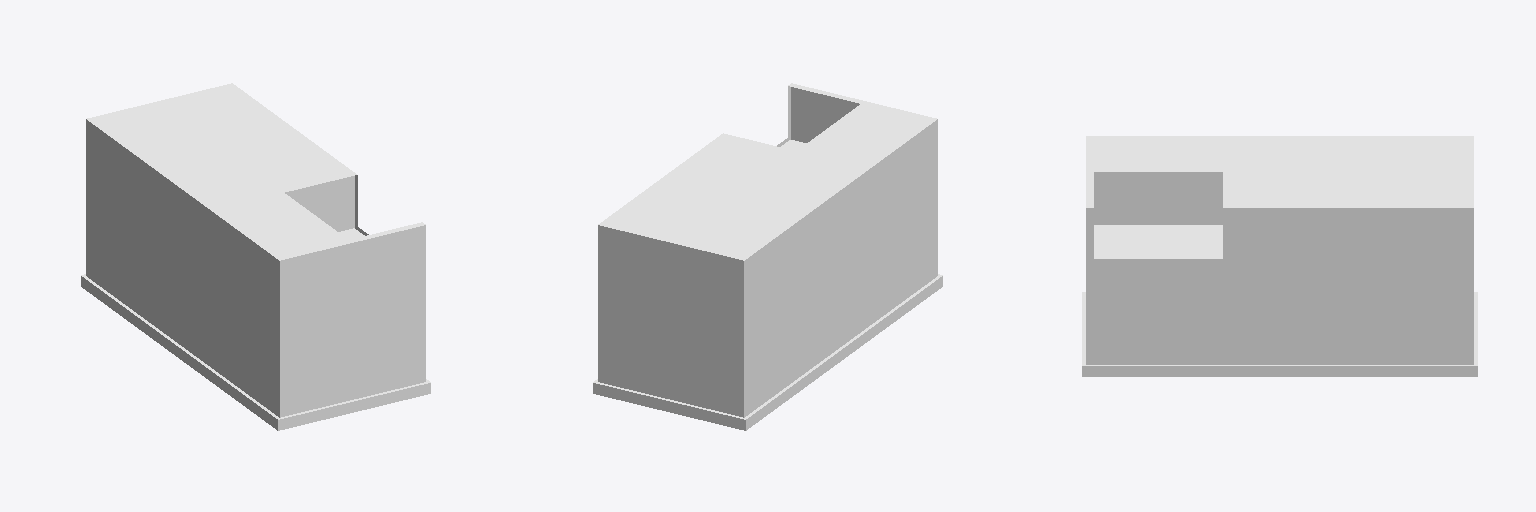
Rendered from Cash Wrap.obj.
3 renders of one model, left to right at view 1: azimuth 30°, elevation 25°; view 2: azimuth 150°, elevation 25°; view 3: azimuth 270°, elevation 25°, orthographic.
Visible parts, largest first — view 1: Cash_Wrap, Cube; view 2: Cash_Wrap, Cube; view 3: Cash_Wrap, Cube.
Boxes of the visible parts, box(x1,y1,x2,y2) form: Cash_Wrap: box(81, 83, 430, 430); Cube: box(285, 176, 364, 239); Cash_Wrap: box(593, 83, 942, 430); Cube: box(781, 87, 859, 150); Cash_Wrap: box(1082, 136, 1477, 376); Cube: box(1094, 172, 1222, 258).
Size of the model in its own units: 74.22 by 77.8 by 166.